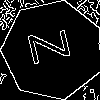Z: (27, 25, 80, 65)
